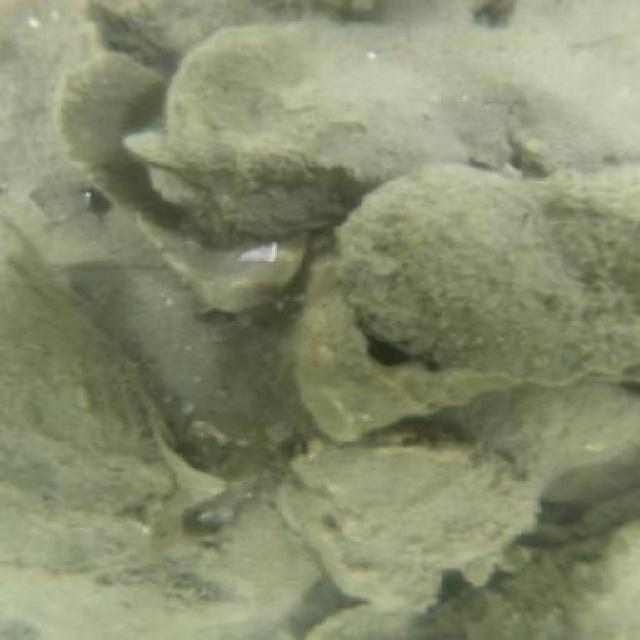Oyster-Indeterminate: (159, 20, 479, 236), (50, 53, 312, 316), (340, 162, 630, 382), (2, 230, 173, 574), (280, 440, 544, 606), (70, 502, 314, 631)
